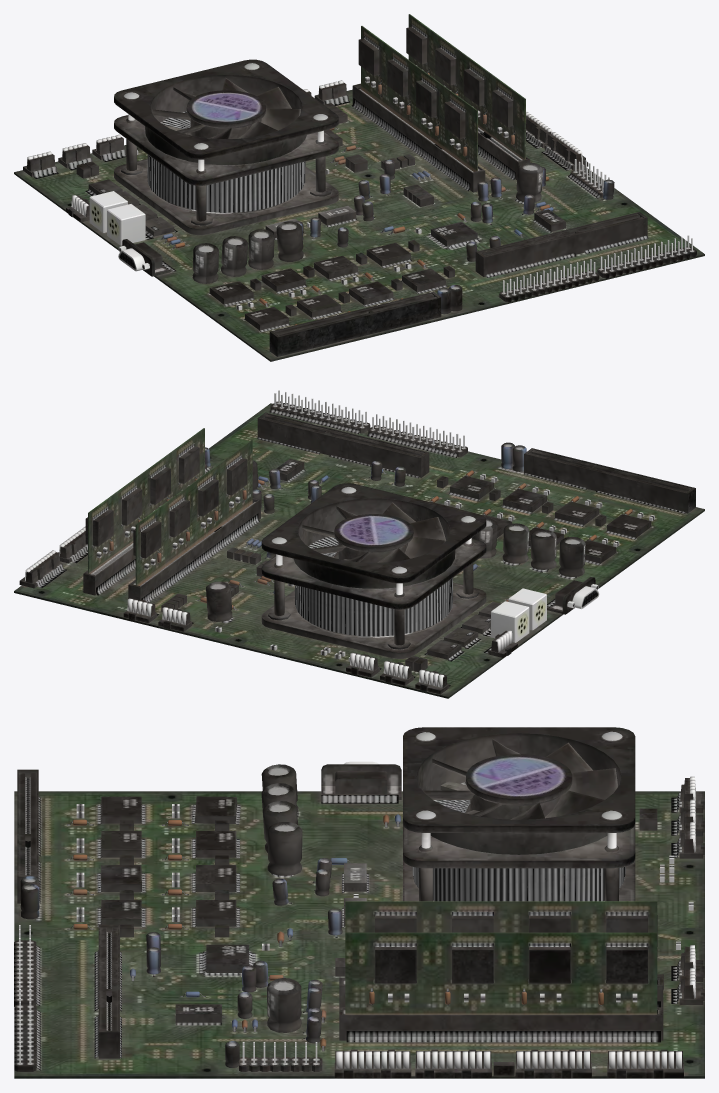
Rendered from circuit_board.glb.
3 views of the same model, one above another, from view 1: azimuth 30°, elevation 25°; view 2: azimuth 150°, elevation 25°; view 3: azimuth 270°, elevation 25° (orthographic). The views are drawn at different scales.
Parts seen in each view (by area): view 1: circuit_board; view 2: circuit_board; view 3: circuit_board.
Boxes of the visible parts, x1=… form: circuit_board: x1=14, y1=14, x2=704, y2=361; circuit_board: x1=14, y1=390, x2=704, y2=698; circuit_board: x1=14, y1=727, x2=704, y2=1078.
Size of the model in its own units: 0.4035 by 0.0783 by 0.3974.
Materials: 2 (2 with a texture image).
